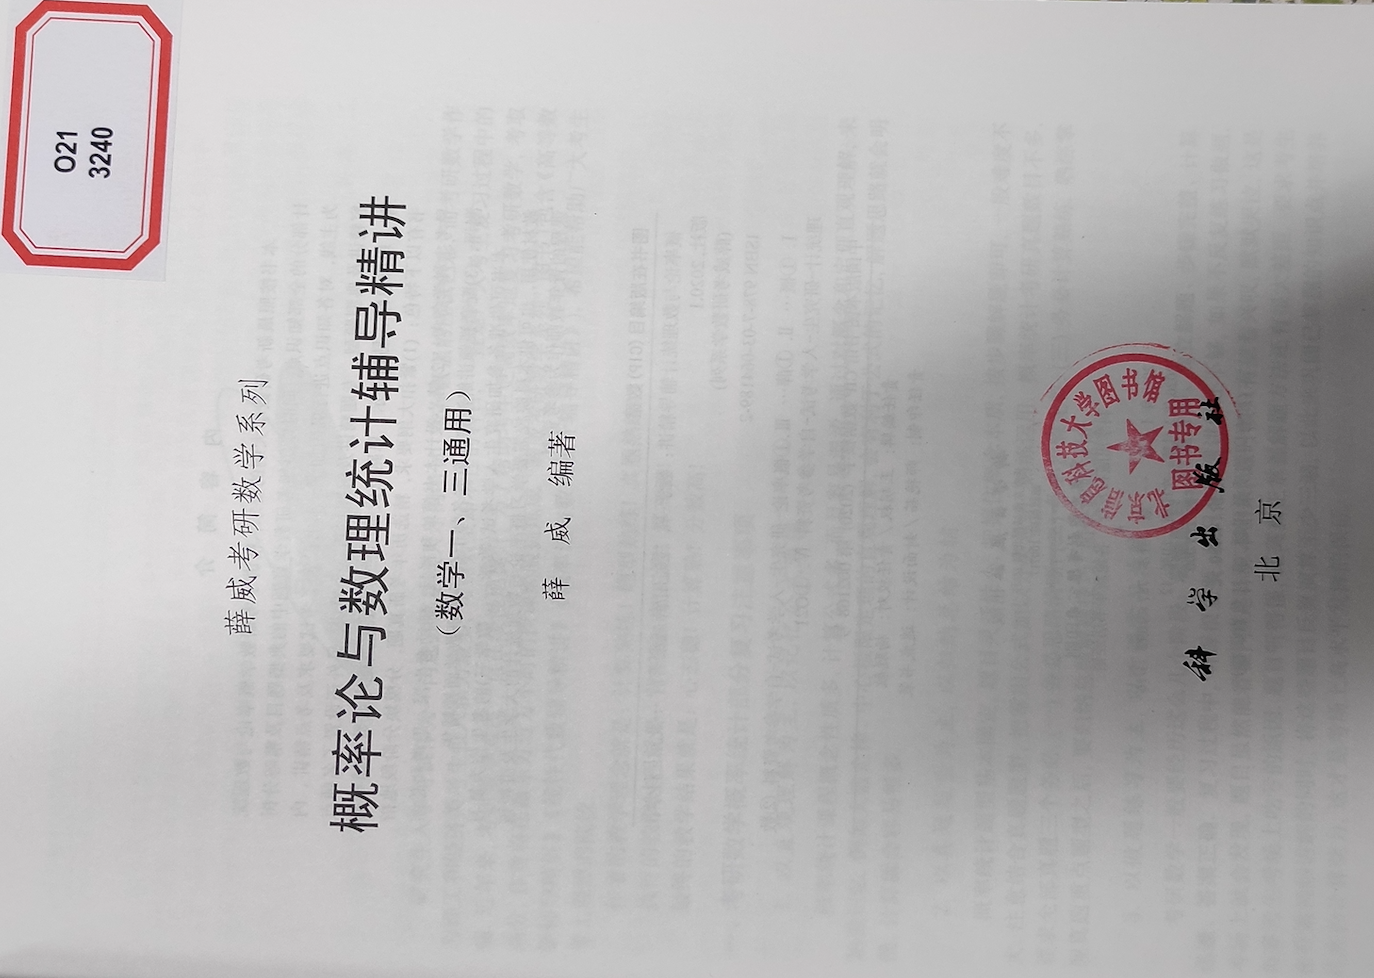Text_area: (219, 188, 601, 858), (1043, 312, 1299, 700), (11, 2, 197, 288)
